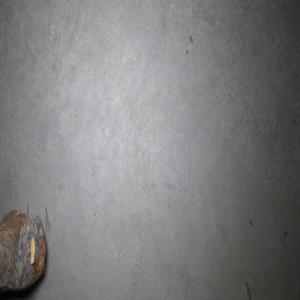Rock: (0, 202, 46, 291)
